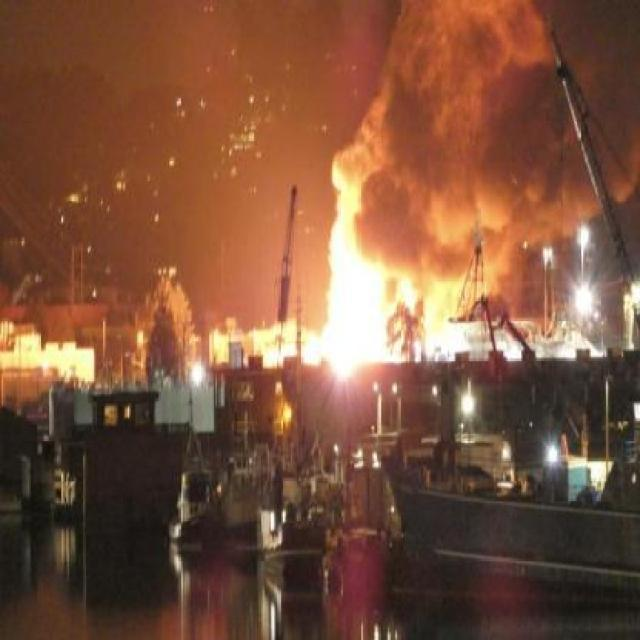Fire: (290, 131, 436, 379)
Smoke: (350, 0, 640, 267)
